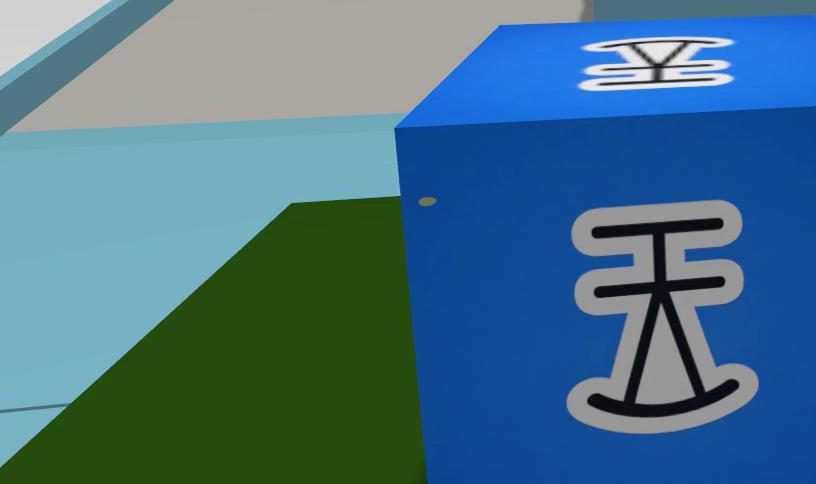KFS_REAL: (395, 17, 816, 483), (566, 200, 758, 434), (578, 38, 734, 90)
